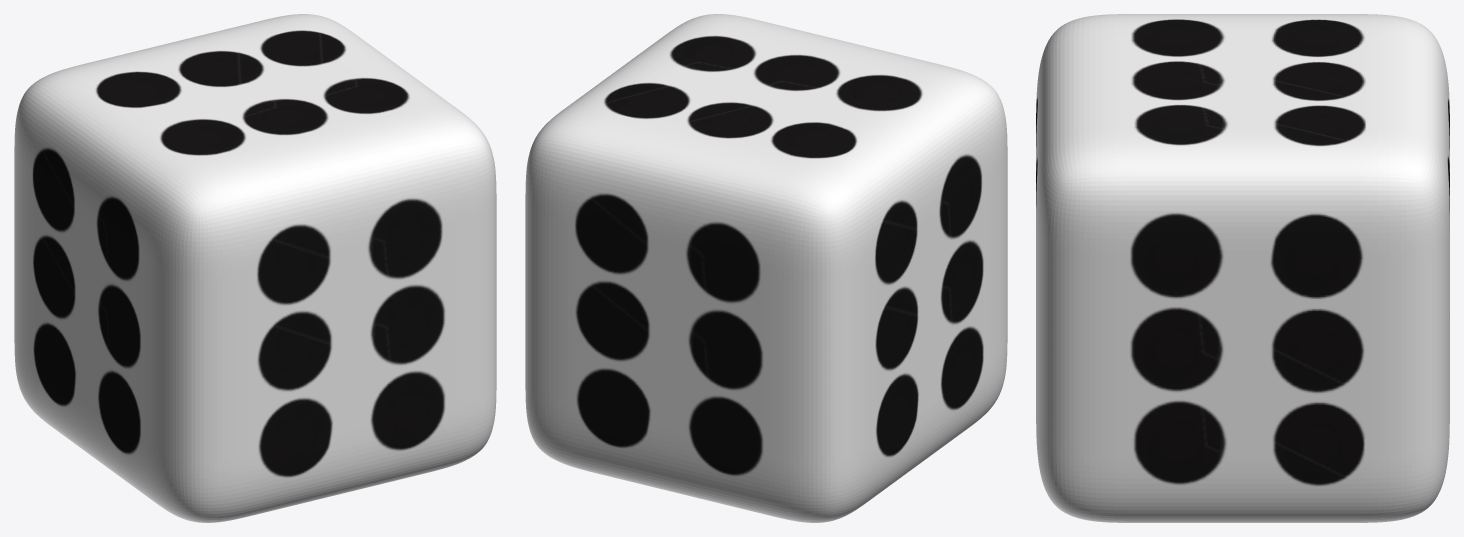
File: Dice6.glb
3 renders of one model, left to right at view 1: azimuth 30°, elevation 25°; view 2: azimuth 150°, elevation 25°; view 3: azimuth 270°, elevation 25°, orthographic. The views are drawn at different scales.
Visible parts, largest first — view 1: Dice_20Ready; view 2: Dice_20Ready; view 3: Dice_20Ready.
Part boxes in pixels (x1=…): Dice_20Ready: x1=14, y1=14, x2=496, y2=522; Dice_20Ready: x1=525, y1=14, x2=1007, y2=522; Dice_20Ready: x1=1036, y1=14, x2=1449, y2=522.
Size of the model in its own units: 1 by 1 by 1.
Materials: 1 (1 with a texture image).
